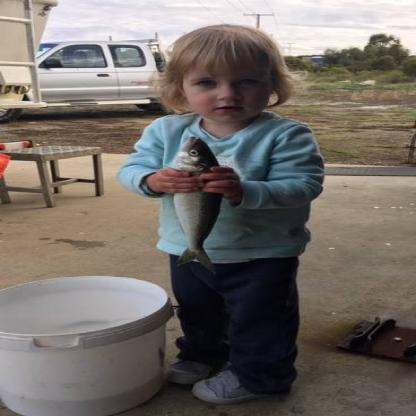fish: (166, 135, 226, 273)
